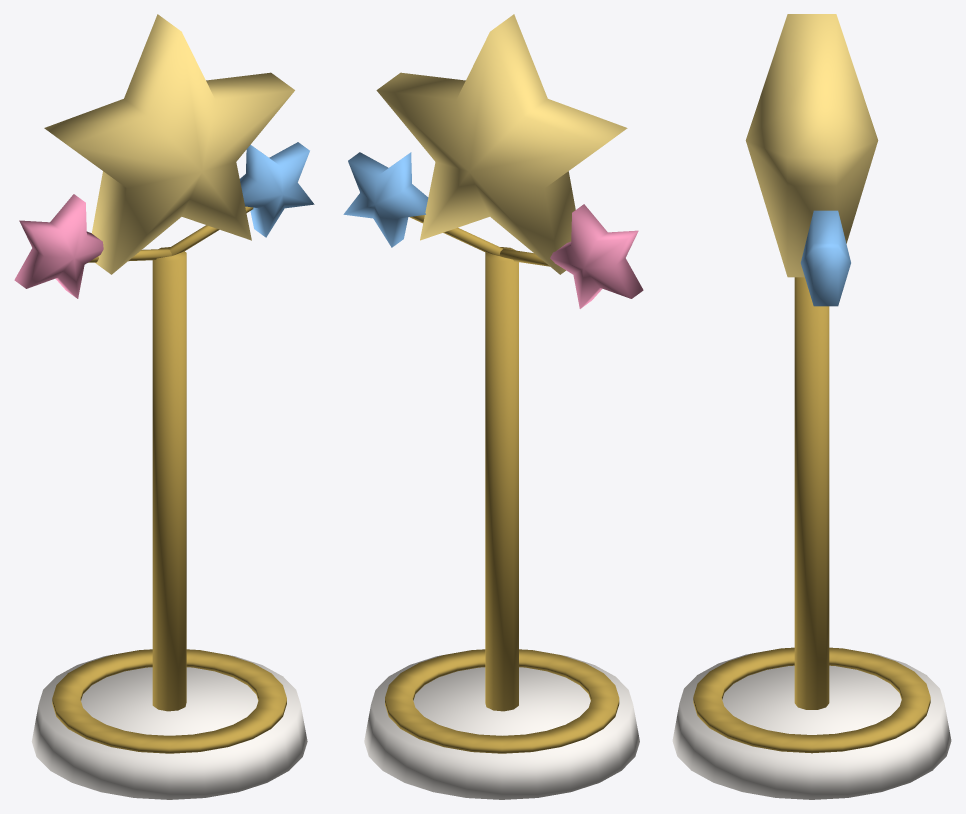
Rendered from star-lamp.glb.
3 views of the same model, side by side, from view 1: azimuth 30°, elevation 25°; view 2: azimuth 150°, elevation 25°; view 3: azimuth 270°, elevation 25° (orthographic).
Parts seen in each view (by area): view 1: lamp; view 2: lamp; view 3: lamp.
Boxes of the visible parts, x1=… form: lamp: x1=14, y1=14, x2=314, y2=799; lamp: x1=343, y1=14, x2=643, y2=799; lamp: x1=672, y1=14, x2=951, y2=799.
Bounding box in the file's own units: 0.4827 × 1.15 × 0.4.
